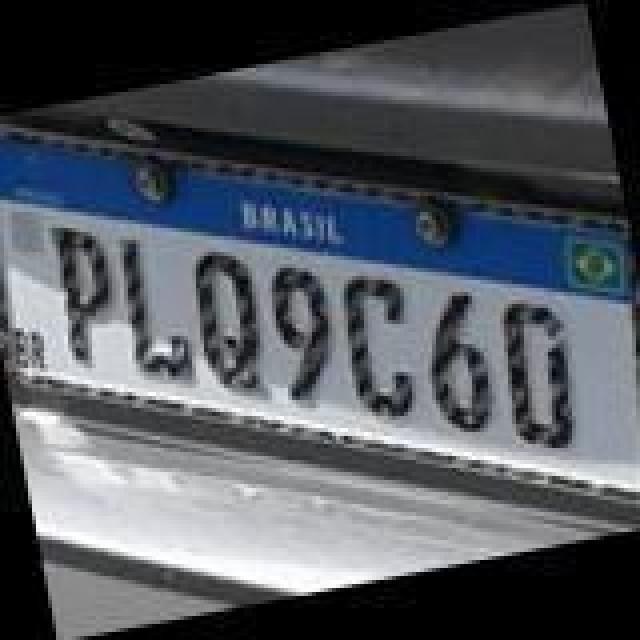6: (410, 284, 502, 436)
9: (252, 254, 348, 410)
C: (338, 262, 430, 426)
D: (490, 290, 590, 462)
L: (114, 220, 206, 404)
P: (48, 220, 128, 380)
Q: (178, 242, 270, 398)
